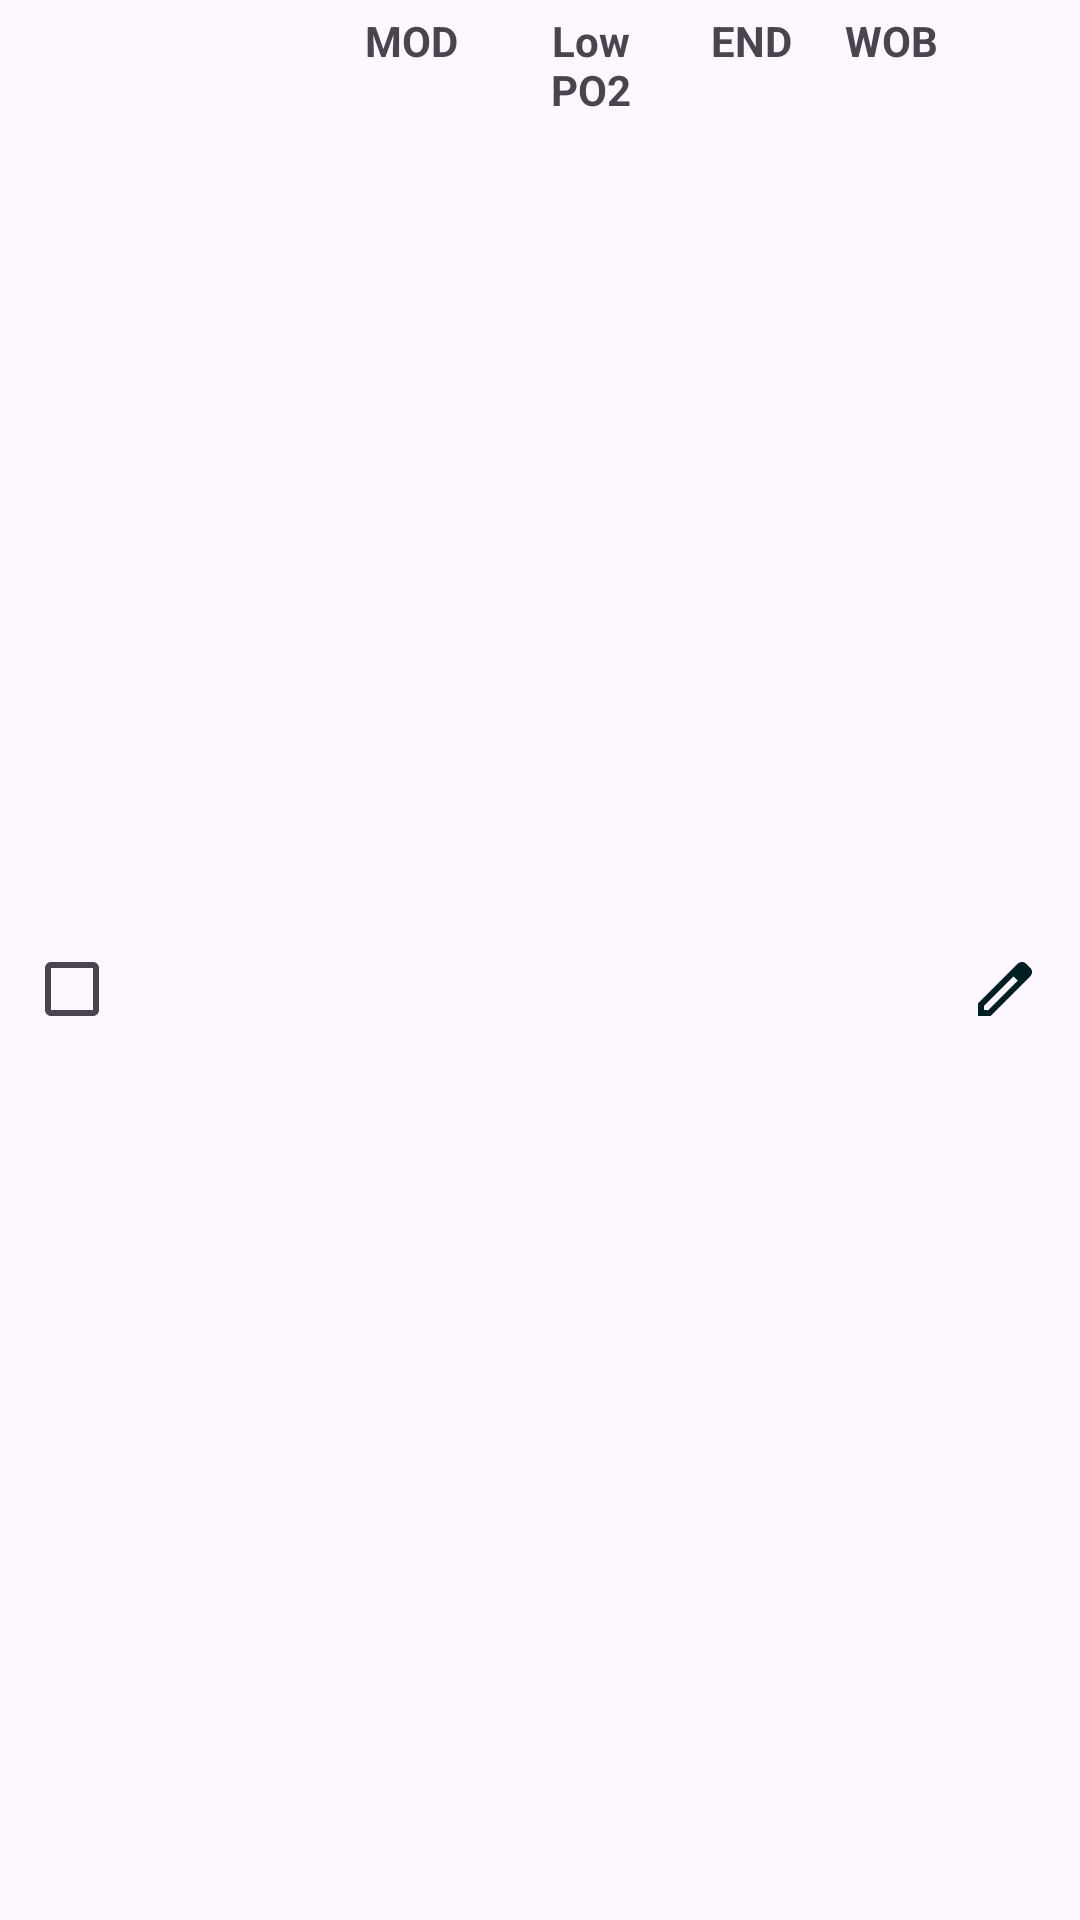

Screen size 1080 x 1920. Icon name, then its center in pixels as (x=x, y=y):
Edit Gas: (x=1005, y=989)
